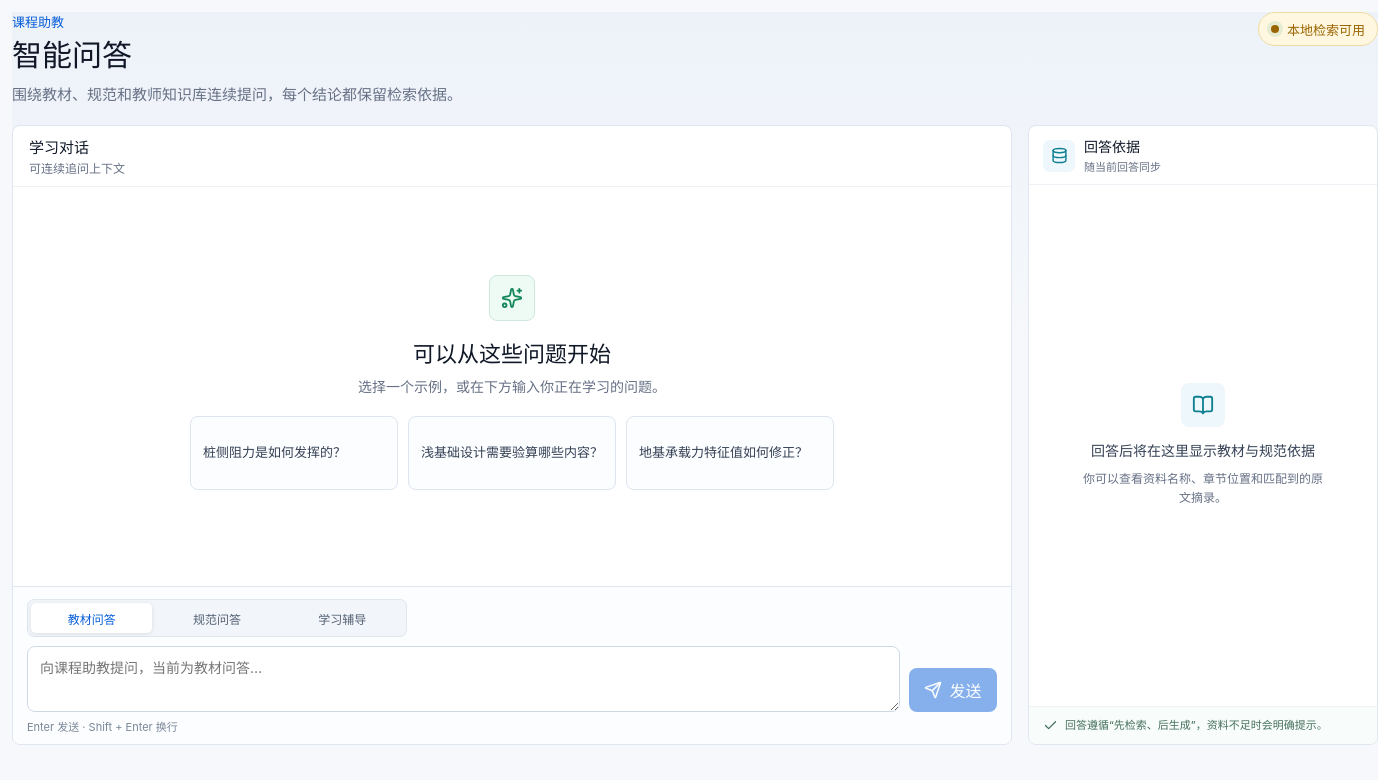
Scenario: QAWorkbench › keeps a usable local answer when the server request fails
Type "解释桩侧阻力" into the text box named "输入问题" at (464, 679), box [27,646,900,712]
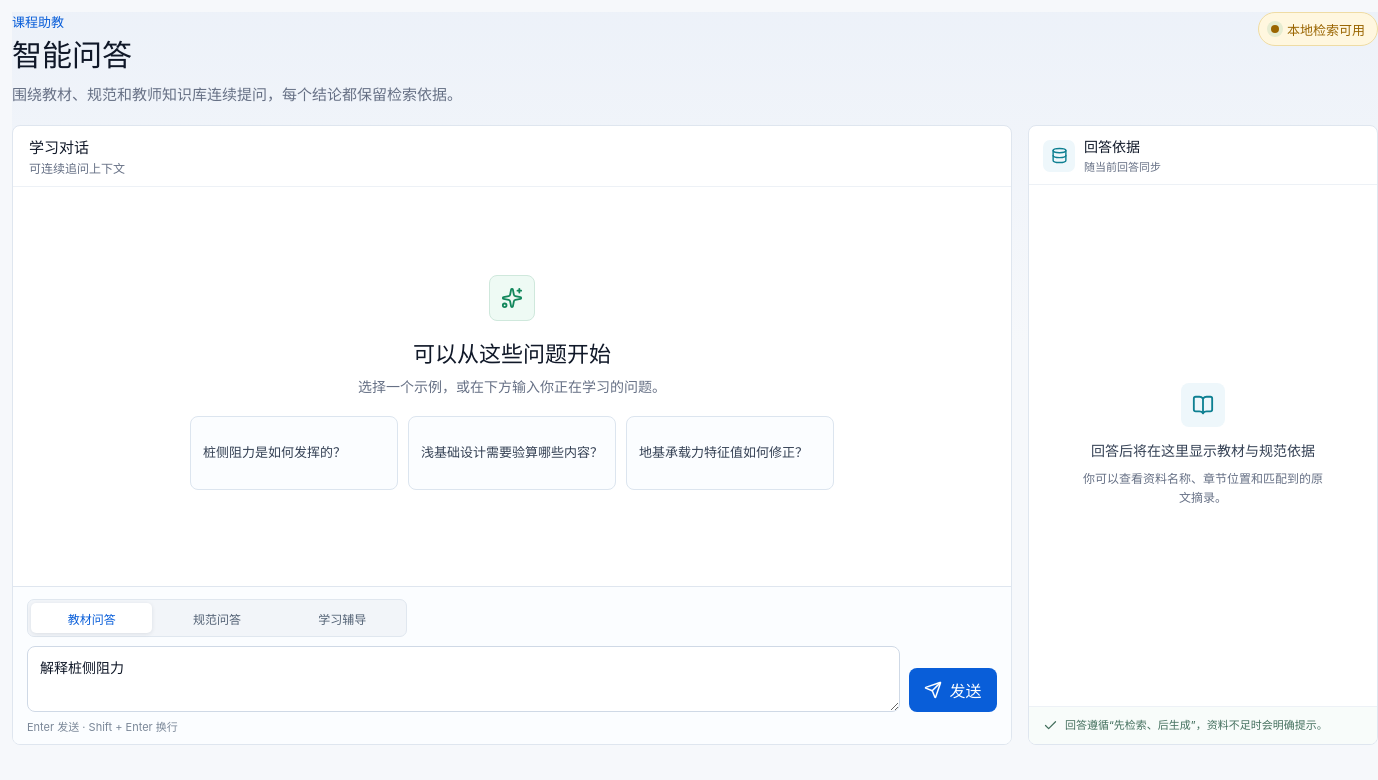
Click the button with aria-label "发送问题" at (953, 690), box [909,668,997,712]
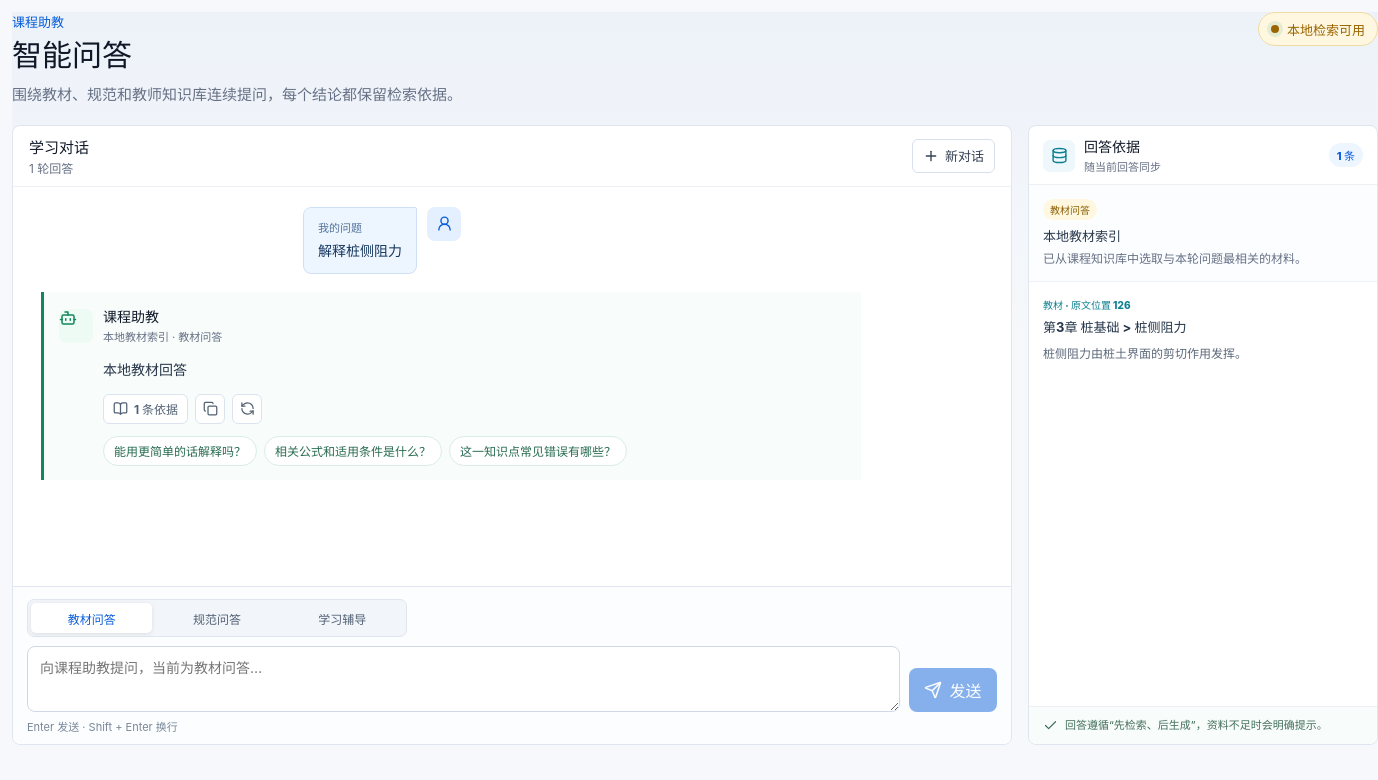
Expected: the text "本地教材回答" is shown, [103,361,187,378]
Expected: the text "本地教材索引" is shown, [1043,228,1121,244]
